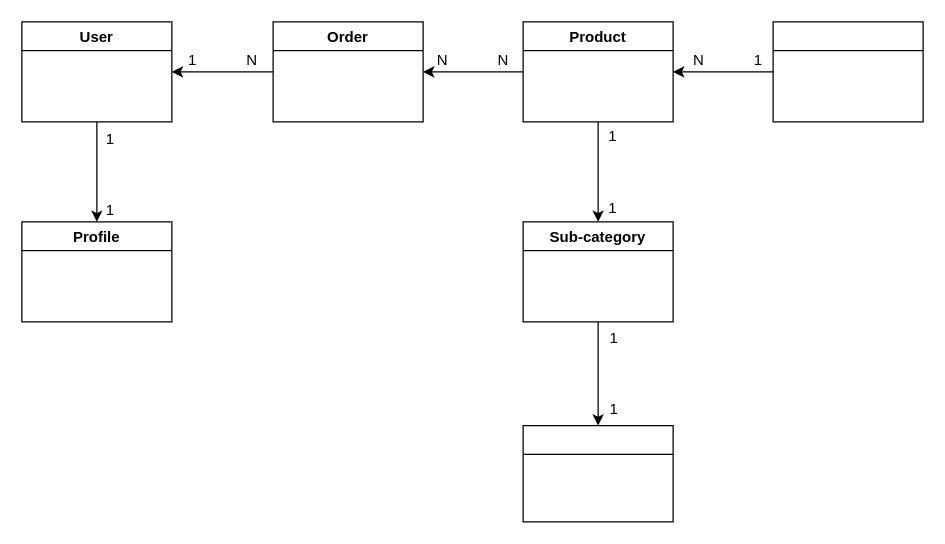
Image size: 945x544. Some labels were removed from this diagram. Each missing label, with the centre of its shape:
"Brand" goes at [847,71].
"Category" goes at [597,473].
